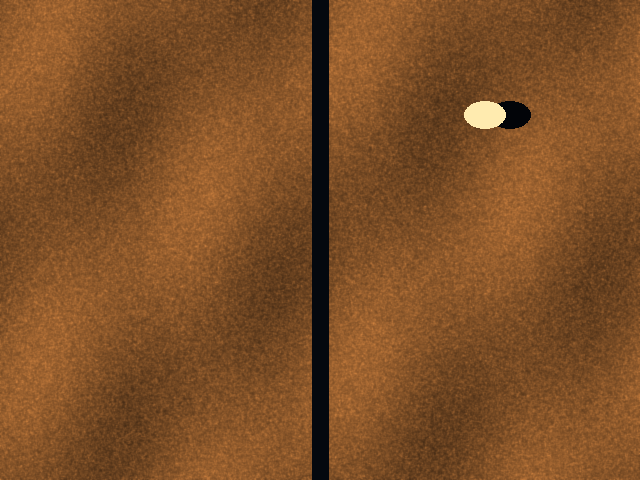Bottle: (464, 101, 505, 128)
